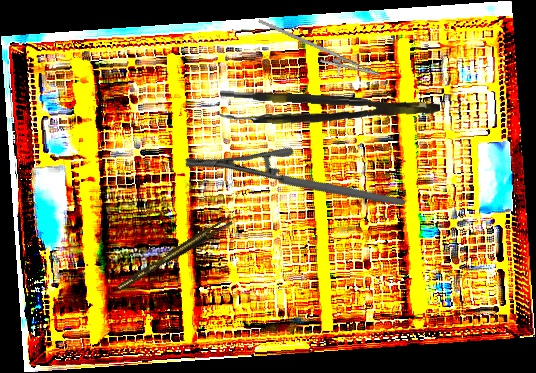Needle Holder: (182, 95, 406, 271), (250, 18, 386, 87)
Tissue Forceps: (218, 89, 441, 133), (114, 216, 235, 291)
